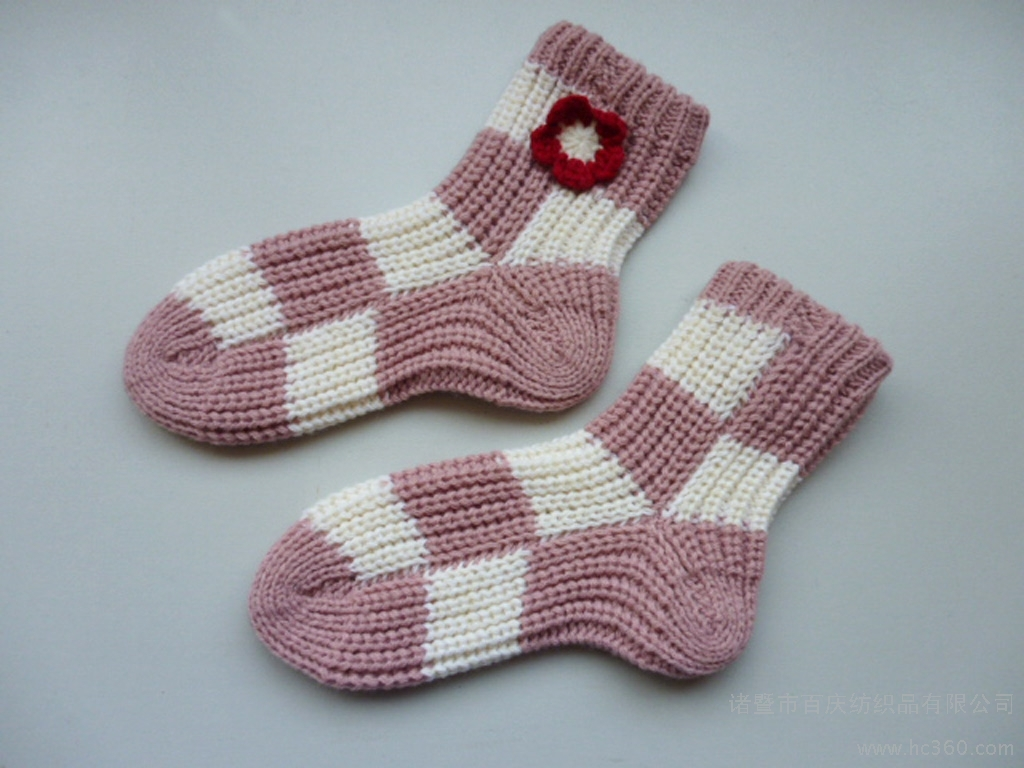flexible: (240, 260, 895, 680), (120, 21, 718, 433)
